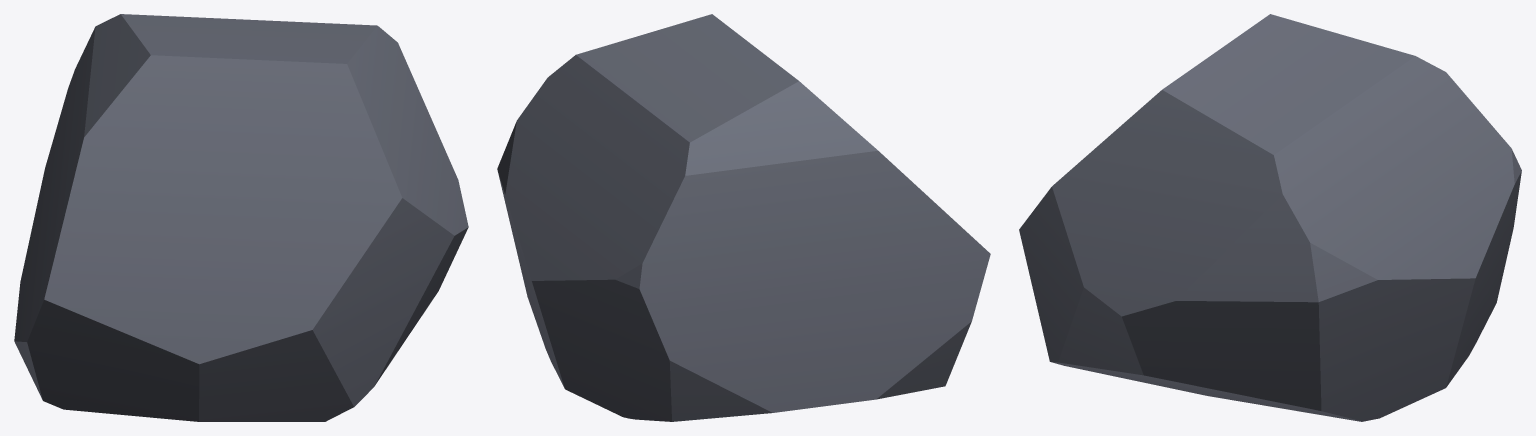
The model's file is Rock_07.fbx.
3 views of the same model, side by side, from view 1: azimuth 30°, elevation 25°; view 2: azimuth 150°, elevation 25°; view 3: azimuth 270°, elevation 25° (orthographic). The views are drawn at different scales.
Parts seen in each view (by area): view 1: Rock_07; view 2: Rock_07; view 3: Rock_07.
Part boxes in pixels (x1,y1,x2,y2): Rock_07: [14, 14, 468, 421]; Rock_07: [497, 14, 990, 421]; Rock_07: [1019, 14, 1521, 421].
Bounding box in the file's own units: 1.43 × 1.07 × 1.39.
